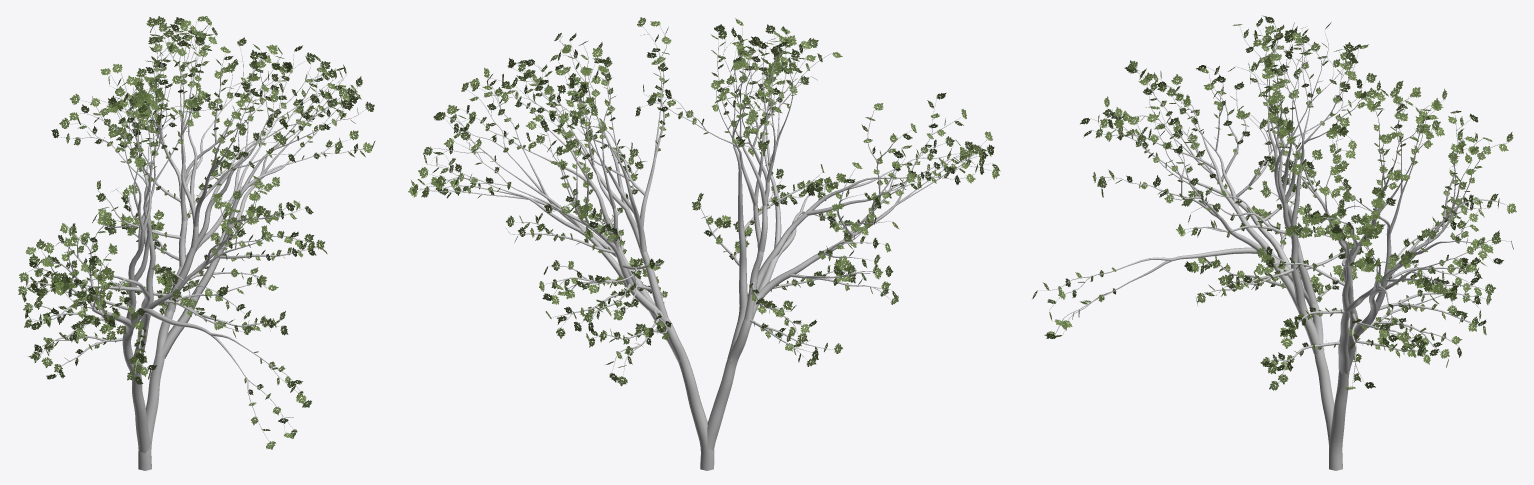
Rendered from Amazonie_Arbre_19.fbx.
3 views of the same model, side by side, from view 1: azimuth 30°, elevation 25°; view 2: azimuth 150°, elevation 25°; view 3: azimuth 270°, elevation 25° (orthographic). The views are drawn at different scales.
Visible parts, largest first — view 1: Plane.001, tree; view 2: Plane.001, tree; view 3: Plane.001, tree.
Boxes of the visible parts, x1=… form: Plane.001: x1=18, y1=16, x2=375, y2=449; tree: x1=23, y1=21, x2=371, y2=470; Plane.001: x1=408, y1=17, x2=1000, y2=386; tree: x1=418, y1=26, x2=991, y2=470; Plane.001: x1=1032, y1=15, x2=1516, y2=390; tree: x1=1038, y1=22, x2=1510, y2=470.
Size of the model in its own units: 639 by 569 by 583.
